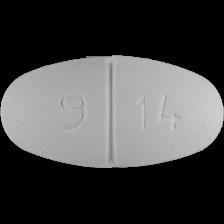0093-7214: (0, 0, 224, 224)
